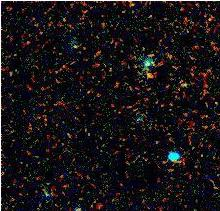star: (136, 64, 166, 94)
